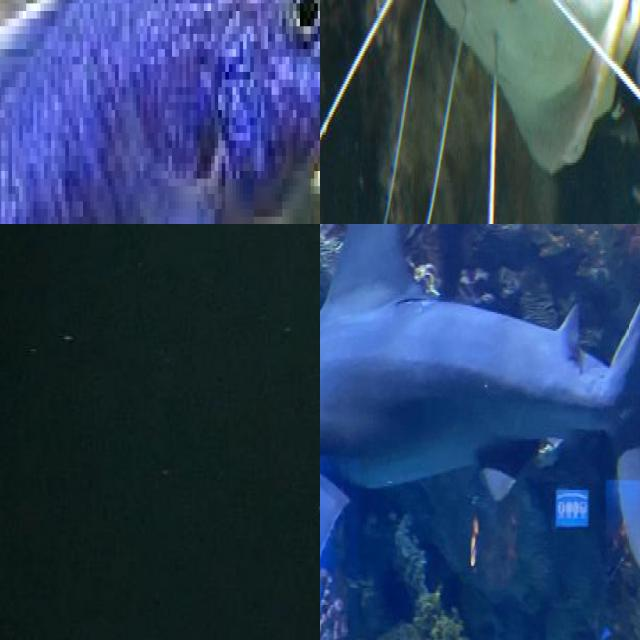fish: (0, 0, 320, 224), (320, 0, 640, 224)
